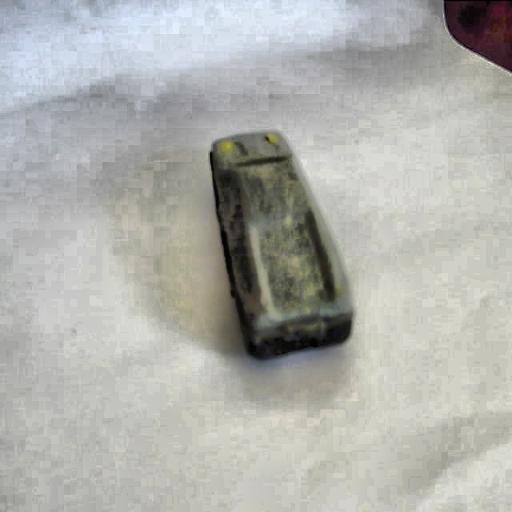normal_car: (201, 120, 362, 368)
